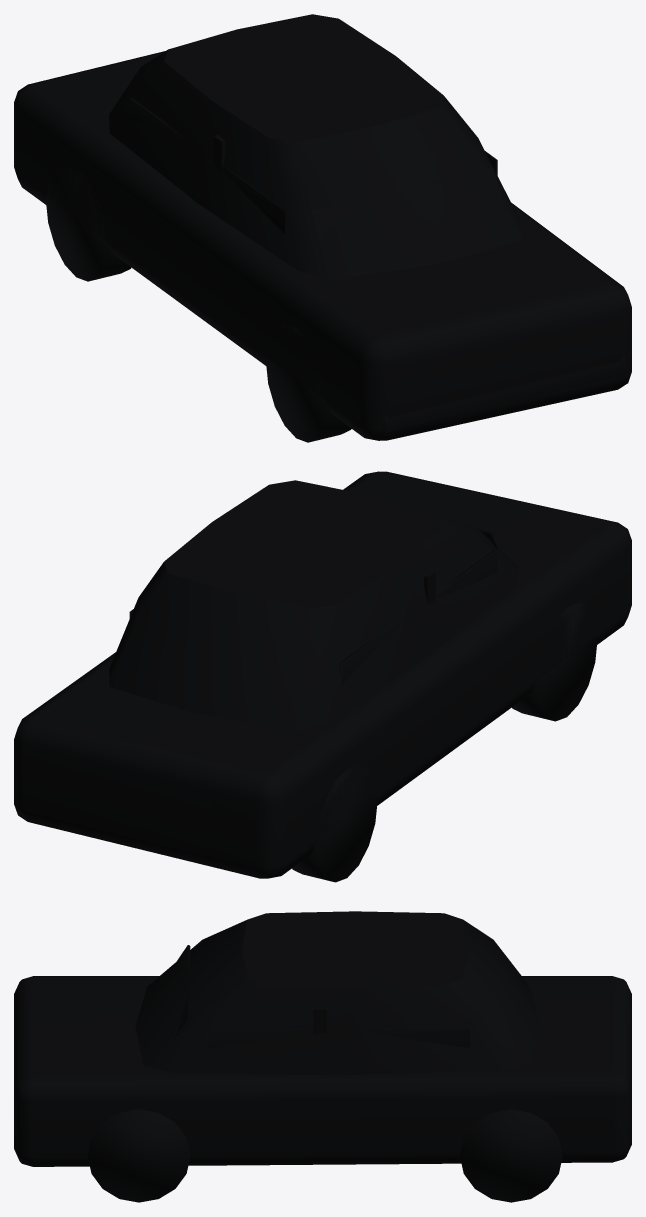
File: car-charred.glb
3 renders of one model, top to bottom at view 1: azimuth 30°, elevation 25°; view 2: azimuth 150°, elevation 25°; view 3: azimuth 270°, elevation 25°, orthographic. The views are drawn at different scales.
Visible parts, largest first — view 1: car-charred; view 2: car-charred; view 3: car-charred.
Part boxes in pixels (box(x1,y1,x2,y2)): car-charred: box(14, 14, 631, 442); car-charred: box(14, 471, 631, 882); car-charred: box(14, 911, 631, 1202).
Bounding box in the file's own units: 1.8 × 1.48 × 4.2.
Materials: 1 (1 with a texture image).
